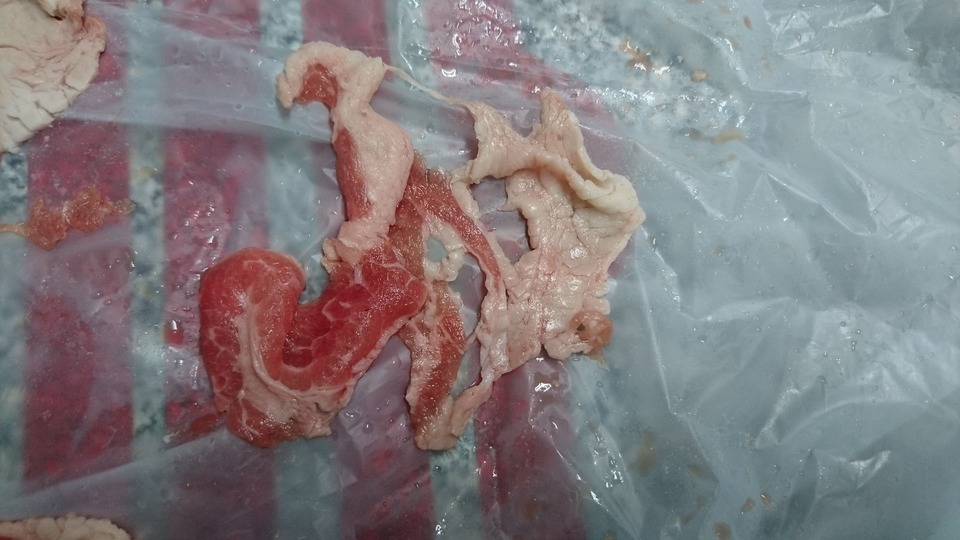restructured meat: (202, 37, 640, 443)
